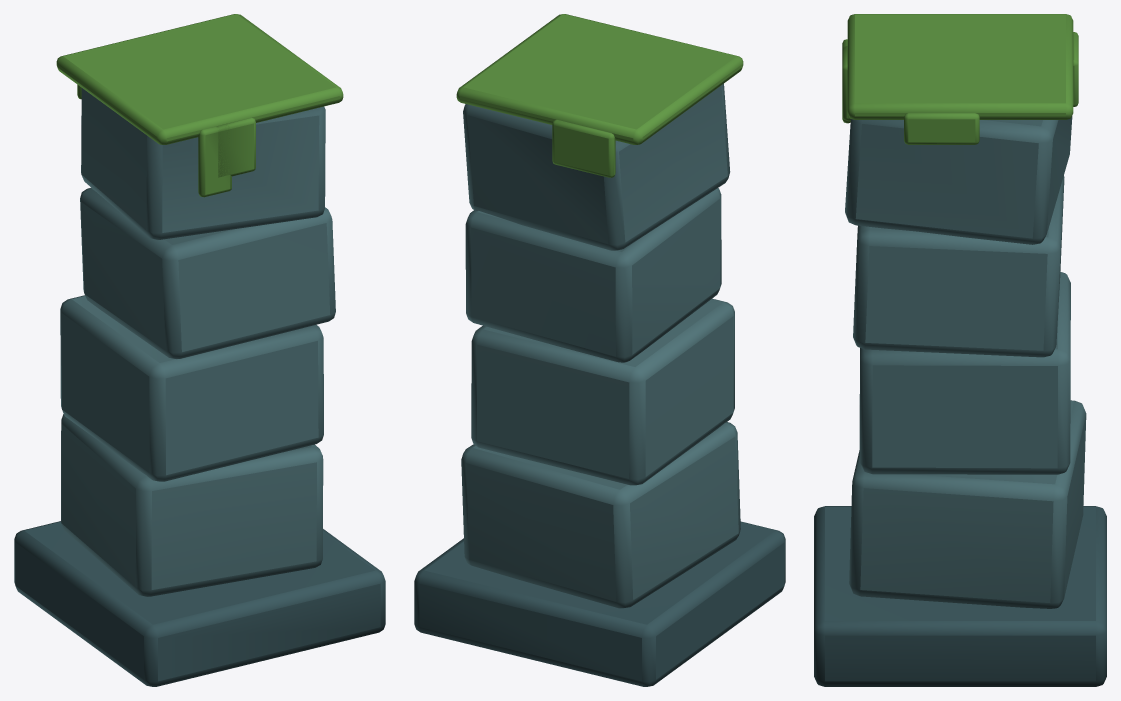
File: ruin_pillar_b.glb
3 renders of one model, left to right at view 1: azimuth 30°, elevation 25°; view 2: azimuth 150°, elevation 25°; view 3: azimuth 270°, elevation 25°, orthographic. The views are drawn at different scales.
Parts seen in each view (by area): view 1: ruin_pillar_b_mesh; view 2: ruin_pillar_b_mesh; view 3: ruin_pillar_b_mesh.
Part boxes in pixels (box(x1,y1,x2,y2)): ruin_pillar_b_mesh: box(14, 14, 385, 686); ruin_pillar_b_mesh: box(414, 14, 785, 686); ruin_pillar_b_mesh: box(814, 14, 1106, 686).
Size of the model in its own units: 1.62 by 3.48 by 1.62.
